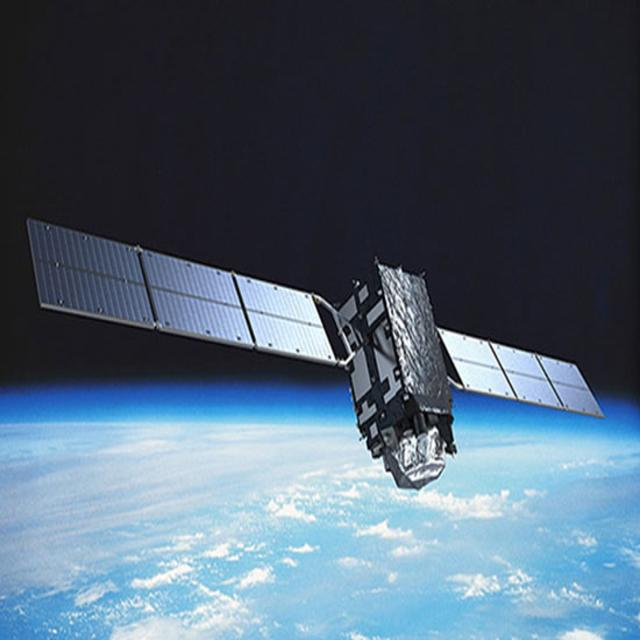medium_debris: (3, 200, 612, 506)
